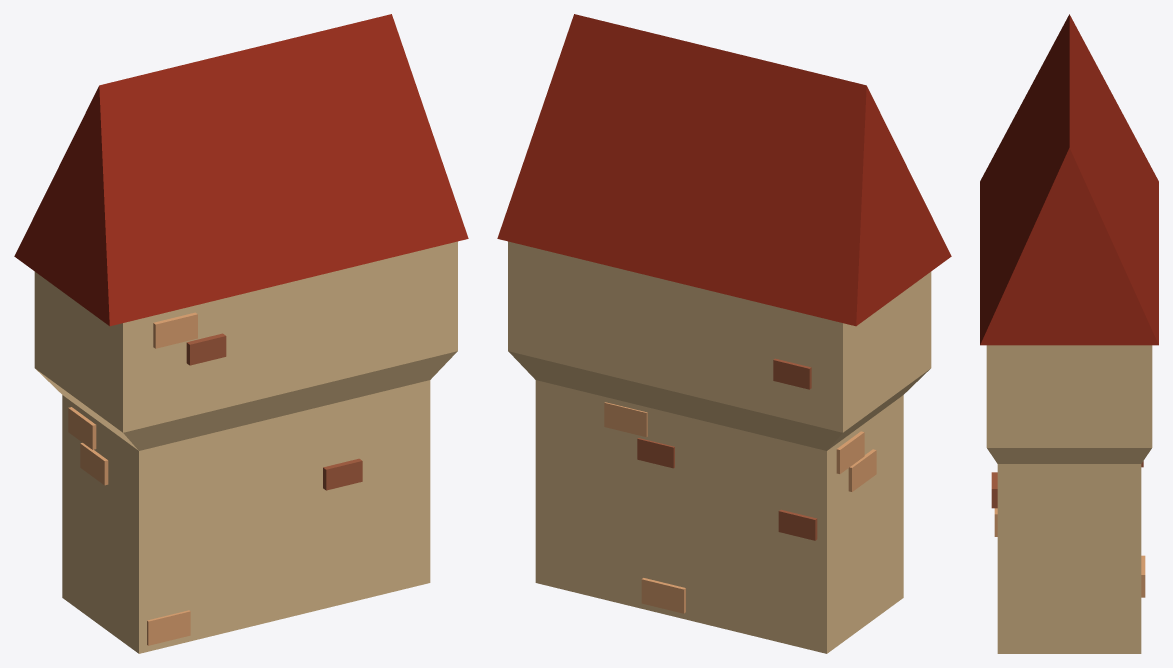
File: Tower_2.glb
3 views of the same model, side by side, from view 1: azimuth 30°, elevation 25°; view 2: azimuth 150°, elevation 25°; view 3: azimuth 270°, elevation 25° (orthographic). The views are drawn at different scales.
Parts seen in each view (by area): view 1: Tower_2; view 2: Tower_2; view 3: Tower_2.
Boxes of the visible parts, <box> form: Tower_2: <box>14,14,468,653</box>; Tower_2: <box>497,14,951,653</box>; Tower_2: <box>980,14,1158,653</box>.
Size of the model in its own units: 2.21 by 3.19 by 1.02.
